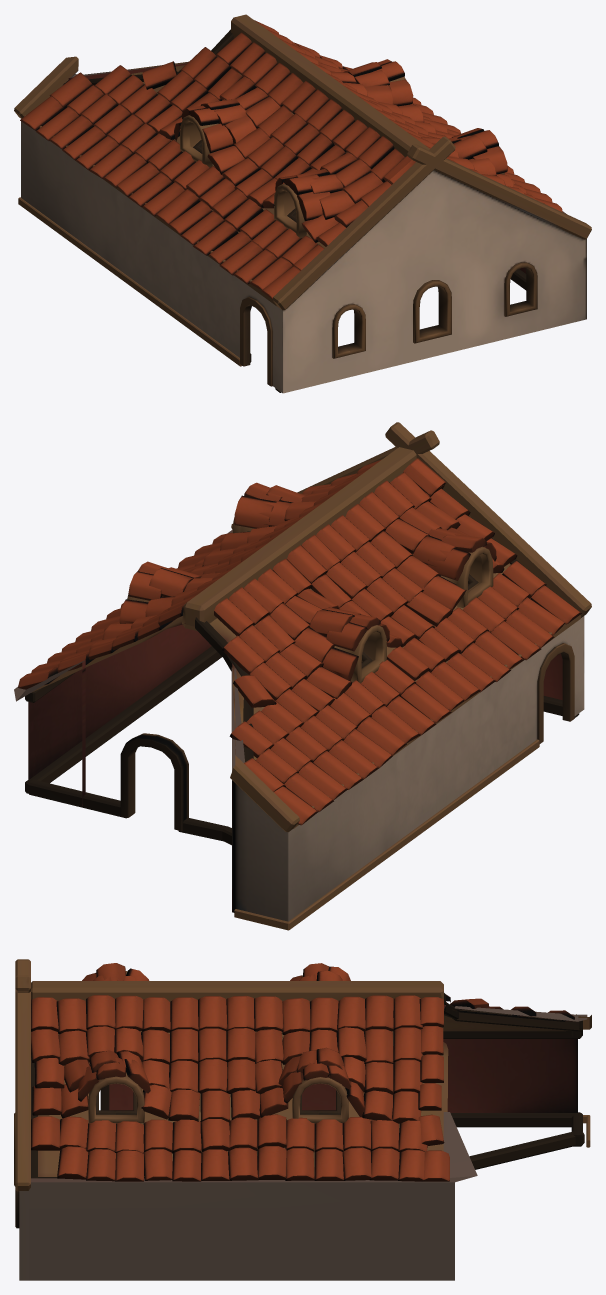
File: house_model.glb
3 renders of one model, top to bottom at view 1: azimuth 30°, elevation 25°; view 2: azimuth 150°, elevation 25°; view 3: azimuth 270°, elevation 25°, orthographic. The views are drawn at different scales.
Visible parts, largest first — view 1: house_t6; view 2: house_t6; view 3: house_t6.
Boxes of the visible parts, <box> form: house_t6: <box>14,14,591,393</box>; house_t6: <box>14,422,591,930</box>; house_t6: <box>14,959,591,1280</box>.
Size of what is drawn, in the model's own units: 12.32 by 8.05 by 17.96.
Materials: 1 (1 with a texture image).
